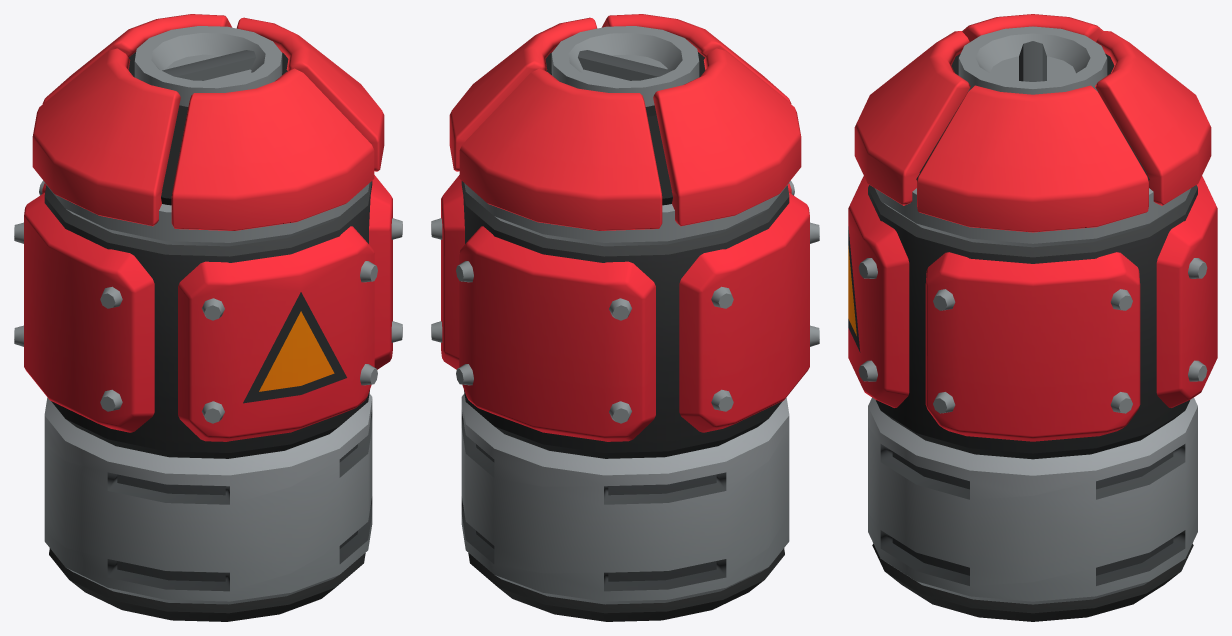
File: Canistre_001.fbx
3 renders of one model, left to right at view 1: azimuth 30°, elevation 25°; view 2: azimuth 150°, elevation 25°; view 3: azimuth 270°, elevation 25°, orthographic.
Visible parts, largest first — view 1: Canistre_001; view 2: Canistre_001; view 3: Canistre_001.
Boxes of the visible parts, x1,y1,x2,y2 form: Canistre_001: (14, 14, 402, 621); Canistre_001: (431, 14, 819, 621); Canistre_001: (848, 14, 1217, 621).
Size of the model in its own units: 32.41 by 32.41 by 49.11.
